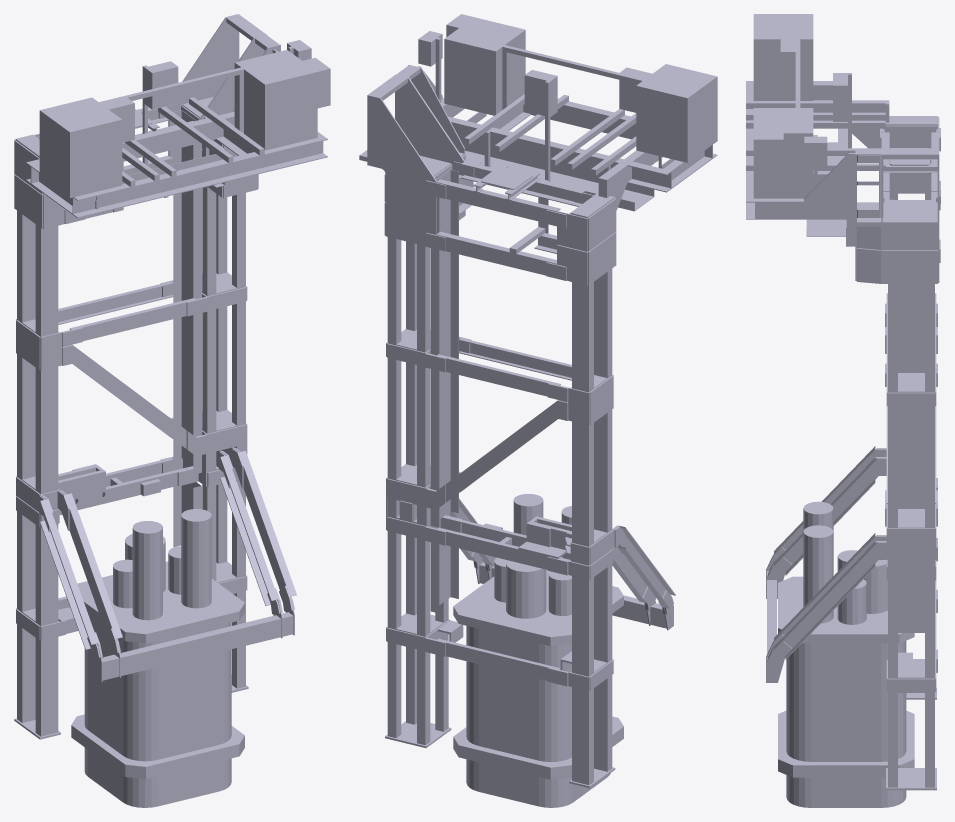
The model's file is Tower-Turret-SideC-cut1.glb.
3 views of the same model, side by side, from view 1: azimuth 30°, elevation 25°; view 2: azimuth 150°, elevation 25°; view 3: azimuth 270°, elevation 25° (orthographic).
Parts seen in each view (by area): view 1: null; view 2: null; view 3: null.
Boxes of the visible parts, bbox=[...] form: null: bbox=[14, 14, 330, 807]; null: bbox=[359, 14, 717, 807]; null: bbox=[746, 14, 940, 807].
Size of the model in its own units: 3.1 by 7.78 by 1.95.
